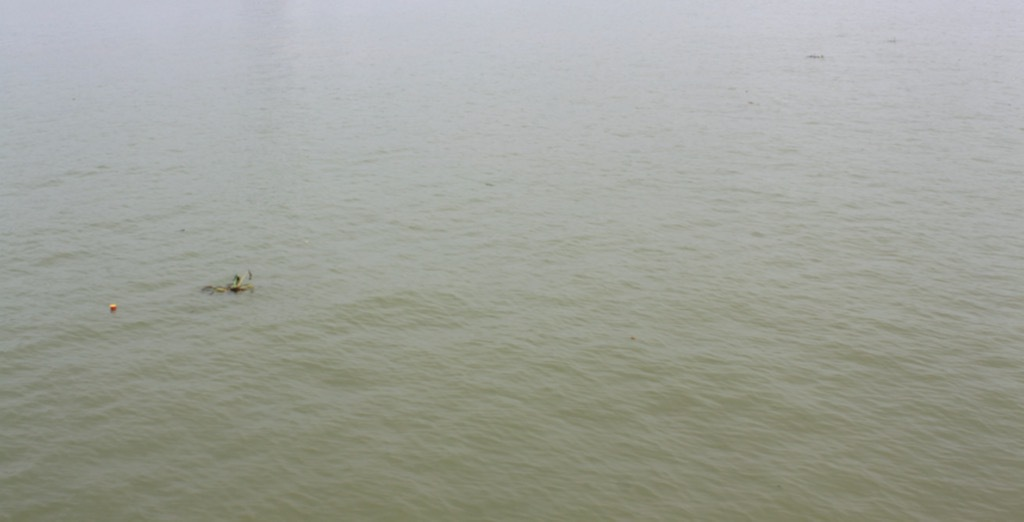organic: (191, 264, 270, 310), (801, 47, 830, 66), (171, 220, 196, 238), (744, 97, 757, 109), (627, 333, 639, 344), (741, 86, 750, 97)
plastic: (100, 298, 124, 321)
